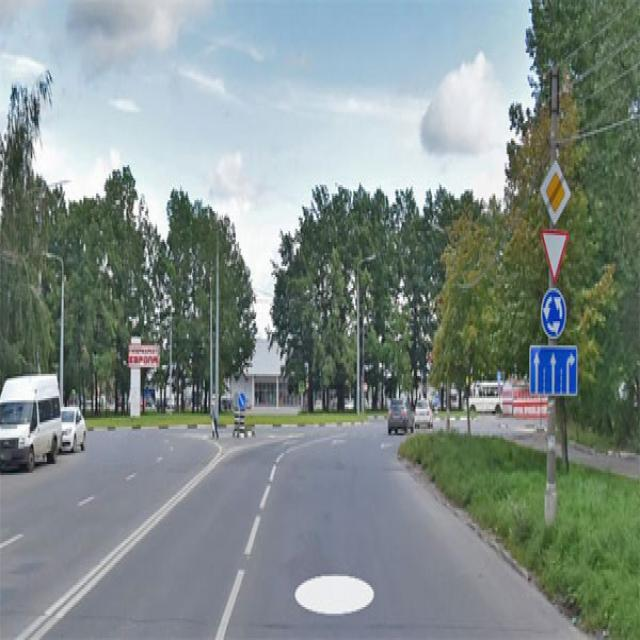roundabout: (542, 290, 566, 340)
